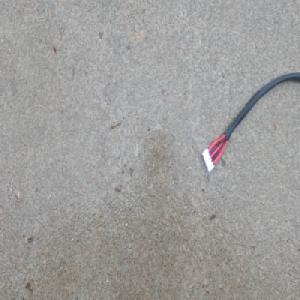Wire: (199, 72, 300, 174)
